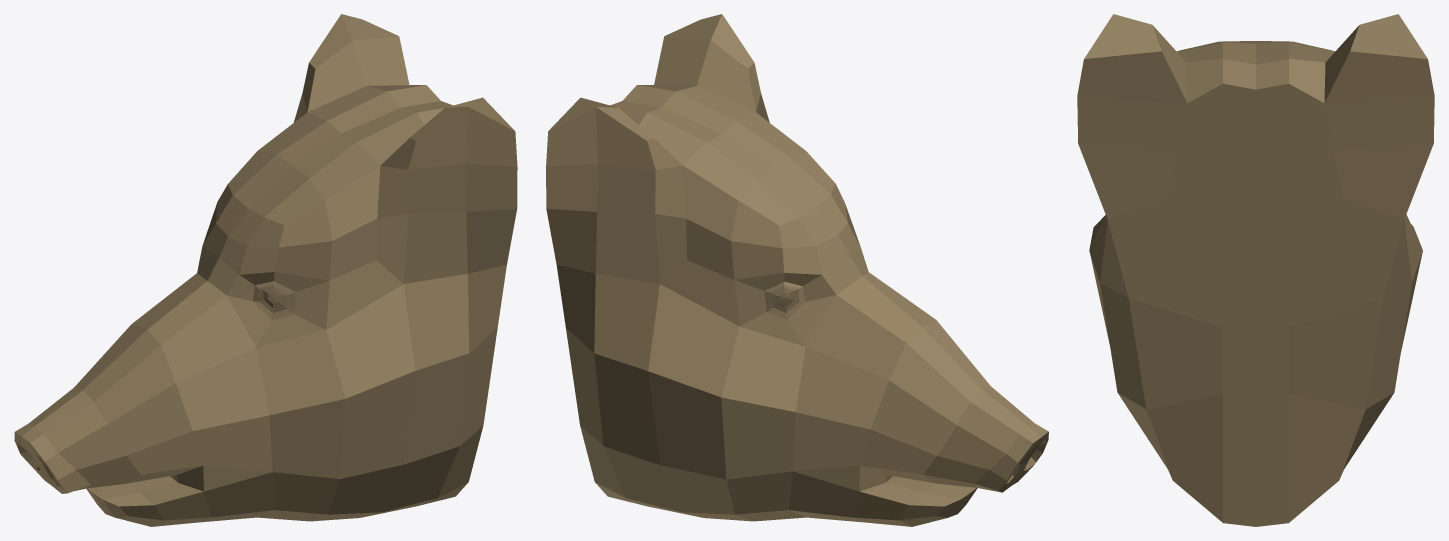
File: Boar_Head.fbx
3 renders of one model, left to right at view 1: azimuth 30°, elevation 25°; view 2: azimuth 150°, elevation 25°; view 3: azimuth 270°, elevation 25°, orthographic. The views are drawn at different scales.
Visible parts, largest first — view 1: Boar_Head; view 2: Boar_Head; view 3: Boar_Head.
Part boxes in pixels (box(x1,y1,x2,y2)): Boar_Head: box(14, 14, 517, 526); Boar_Head: box(546, 14, 1048, 526); Boar_Head: box(1077, 14, 1434, 526).
Bounding box in the file's own units: 129 × 129 × 84.59.
